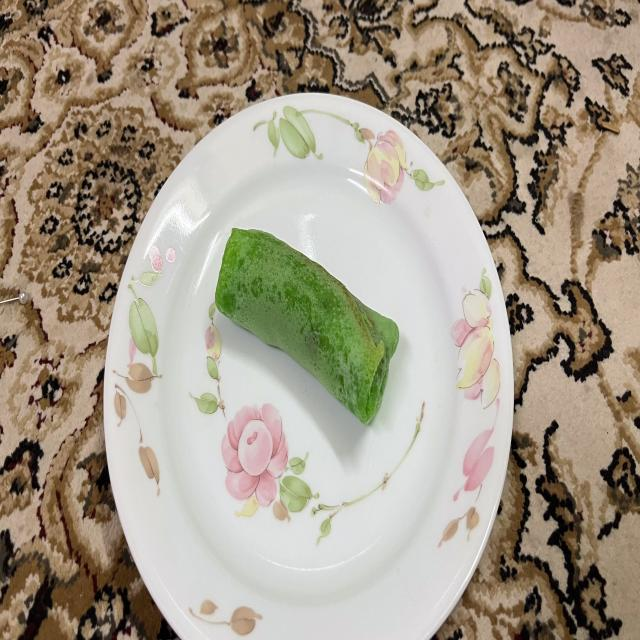Kuih-Ketayap: (215, 229, 399, 424)
